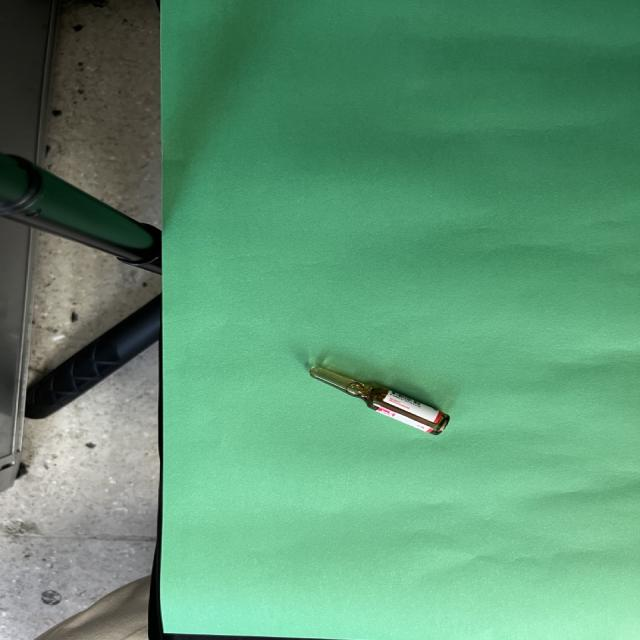Ampoules: (309, 366, 449, 435)
